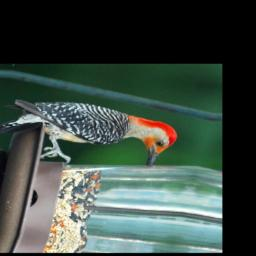Woodpecker: (0, 92, 185, 175)
